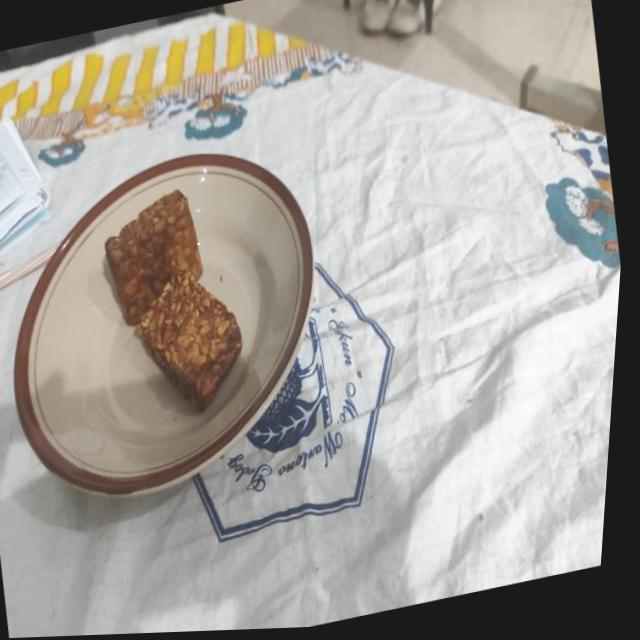tempe_goreng: (134, 270, 241, 409), (105, 190, 202, 324)
